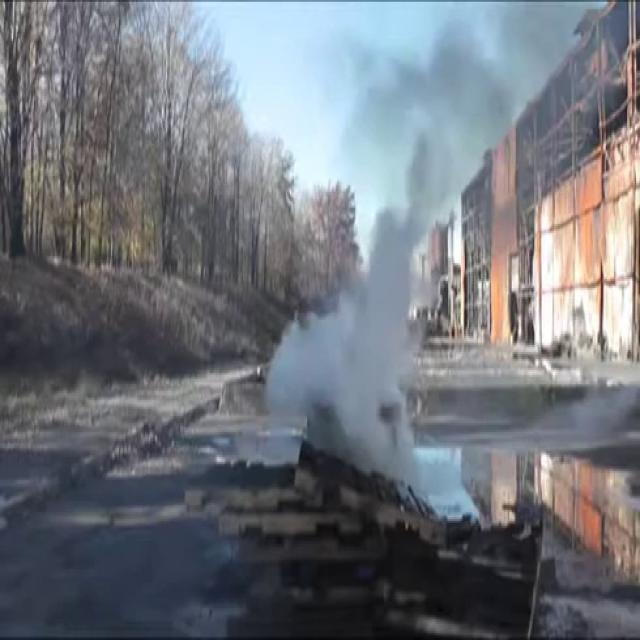Smoke: (261, 28, 487, 490)
